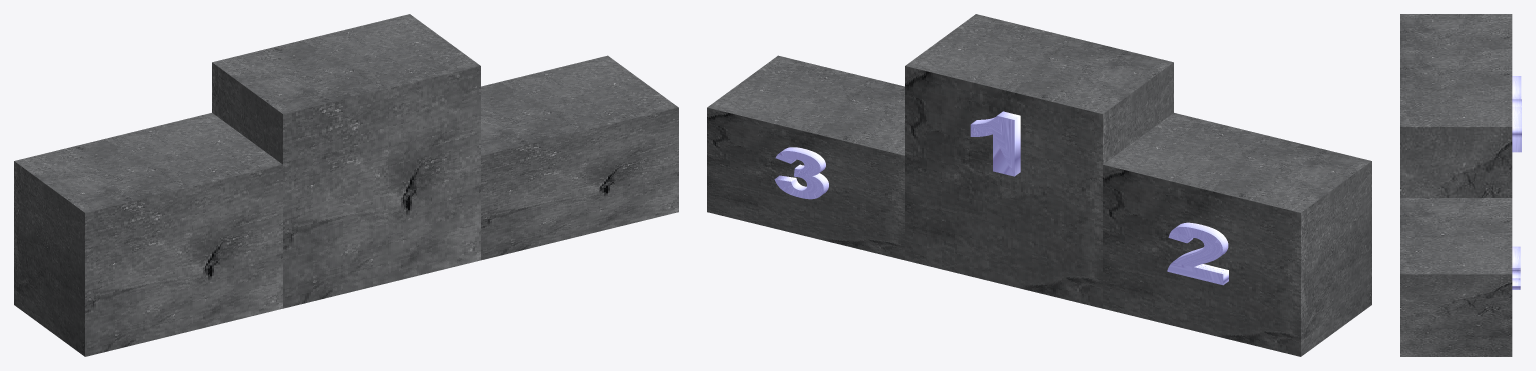
Rendered from podium.glb.
The picture shows the model from 3 angles, left to right: view 1: azimuth 30°, elevation 25°; view 2: azimuth 150°, elevation 25°; view 3: azimuth 270°, elevation 25°; orthographic projection. The views are drawn at different scales.
Visible parts, largest first — view 1: Cube.002; view 2: Cube.002, Text.001, Text, Text.002; view 3: Cube.002, Text, Text.002, Text.001.
Part boxes in pixels (left/top/right/bottom): Cube.002: left=14, top=14, right=678, bottom=356; Cube.002: left=707, top=14, right=1371, bottom=356; Text.001: left=1167, top=222, right=1228, bottom=285; Text: left=970, top=111, right=1020, bottom=176; Text.002: left=774, top=147, right=828, bottom=199; Cube.002: left=1400, top=14, right=1512, bottom=356; Text: left=1512, top=99, right=1521, bottom=152; Text.002: left=1512, top=246, right=1520, bottom=289; Text.001: left=1512, top=76, right=1521, bottom=99.
Size of the model in its own units: 8.63 by 2.7 by 1.94.
Materials: 2 (2 with a texture image).
